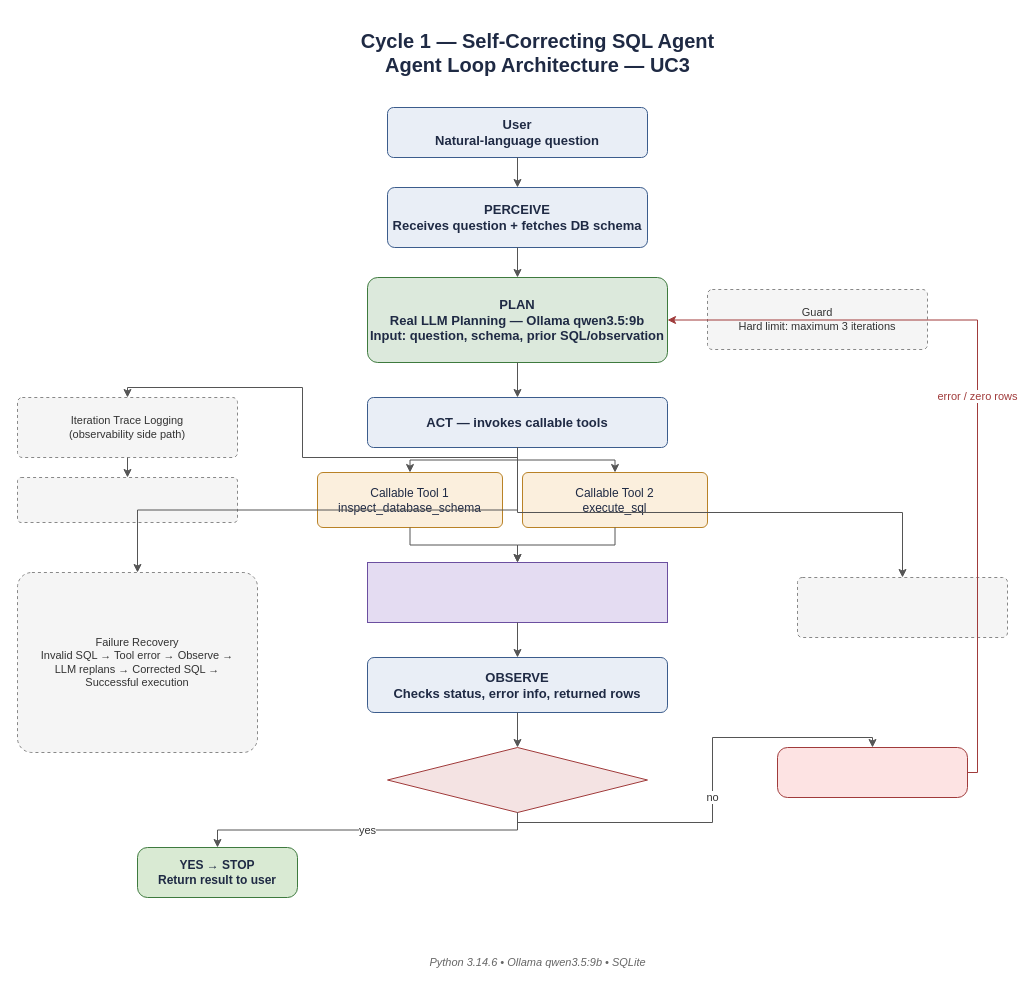
The diagram is 1035 pixels wide and 994 high, and some of its shapes have lost their labels. The shapes that lost their labels are listed below. From the top down, each one's centre as x and y in pixels, then its label:
pixel 127 499: logs/agent_trace.jsonl
pixel 517 592: SQLite Database database/sample.db — employees table
pixel 902 607: pytest — 13 tests passing (separate verification)
pixel 517 779: Success Condition? status OK AND rows > 0
pixel 872 772: NO → RETRY / REPLAN
